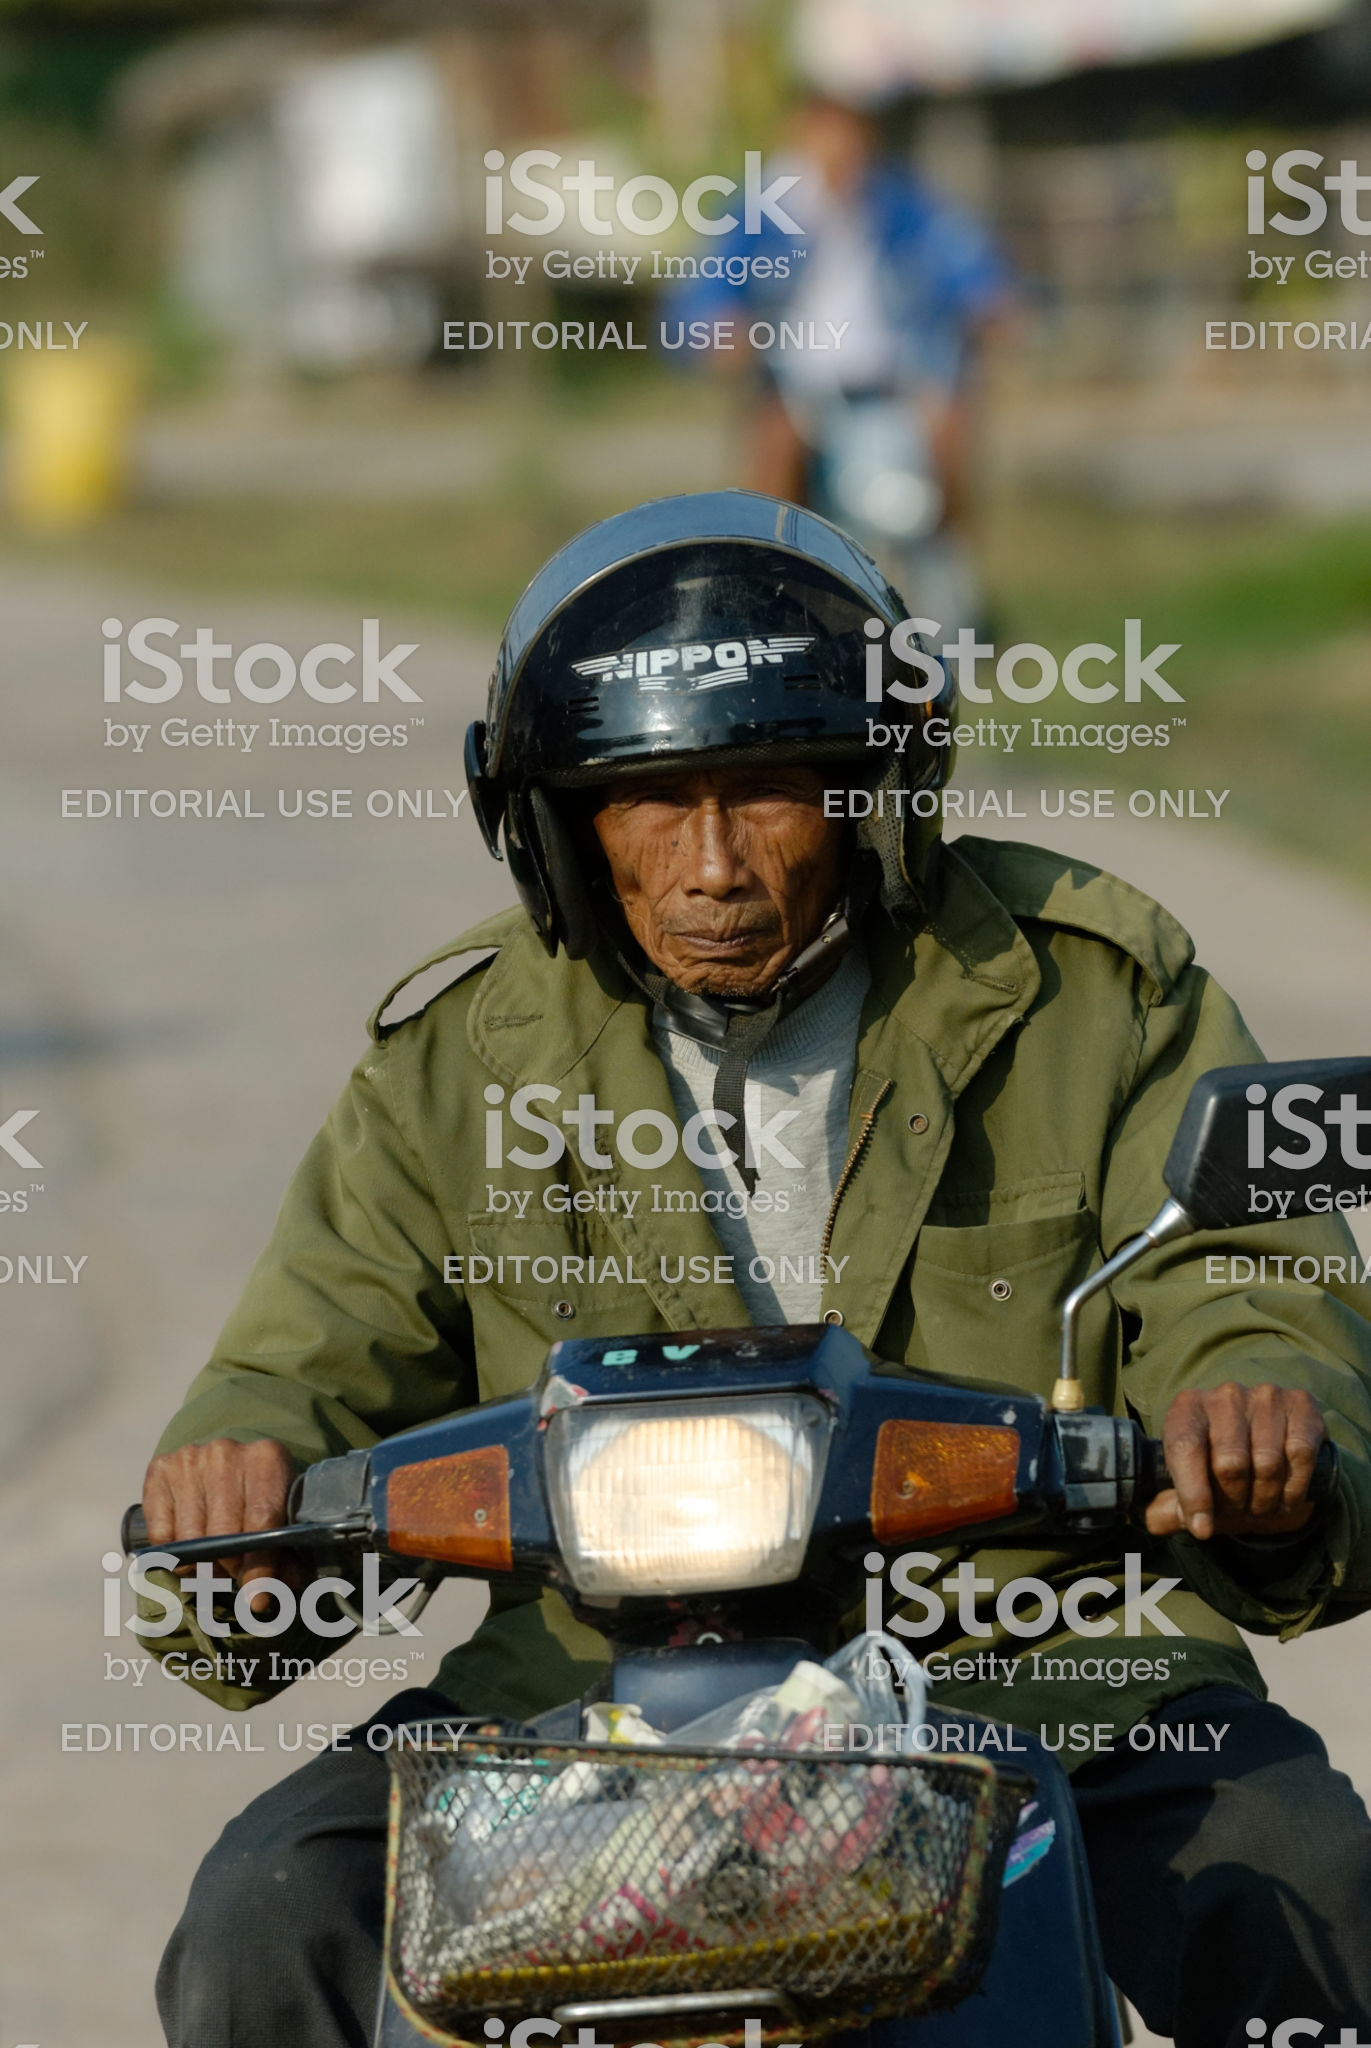helmet: (422, 535, 1010, 980)
